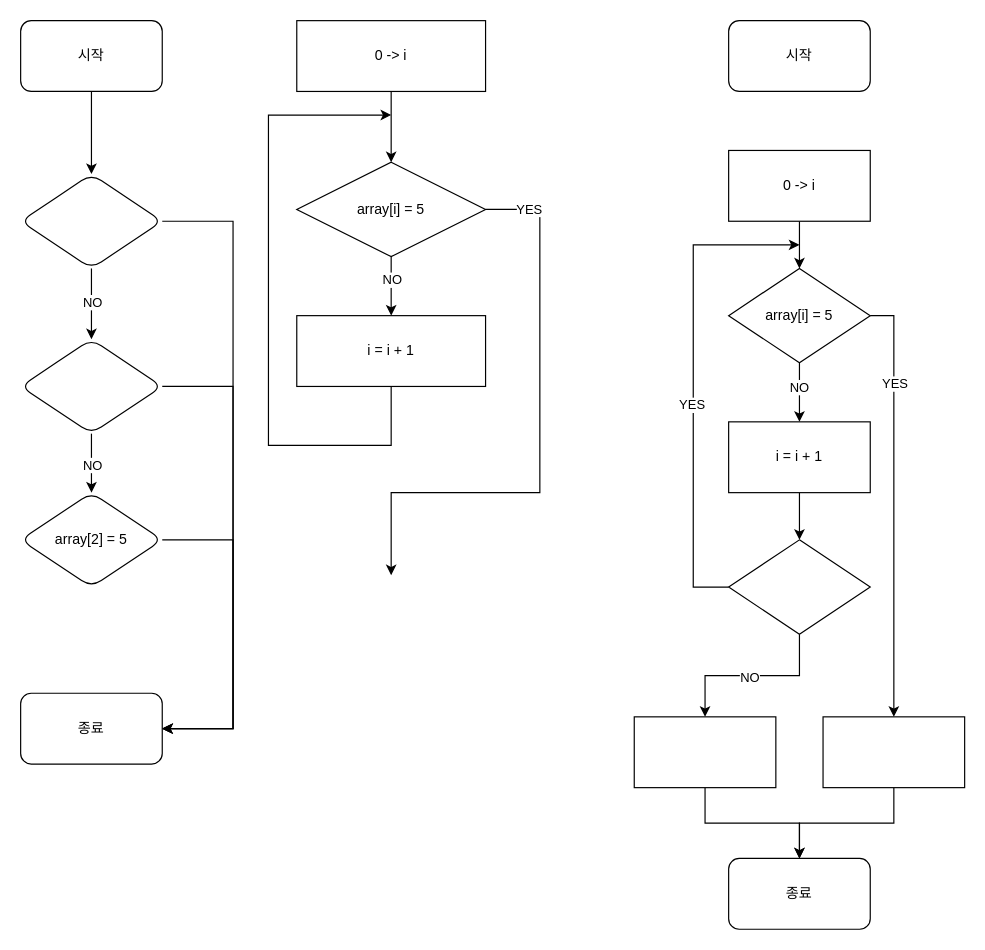
The diagram is 985 pixels wide and 950 high, and some of its shapes have lost their labels. The centre of each missing label's shape, as x and y in pixels:
"'I번째 요소가 일치합니다'" goes at (x=893, y=752).
"'찾지 못했습니다'" goes at (x=704, y=752).
"array[0] = 5" goes at (x=90, y=220).
"array[1] = 5" goes at (x=90, y=386).
"i < 5" goes at (x=798, y=586).
